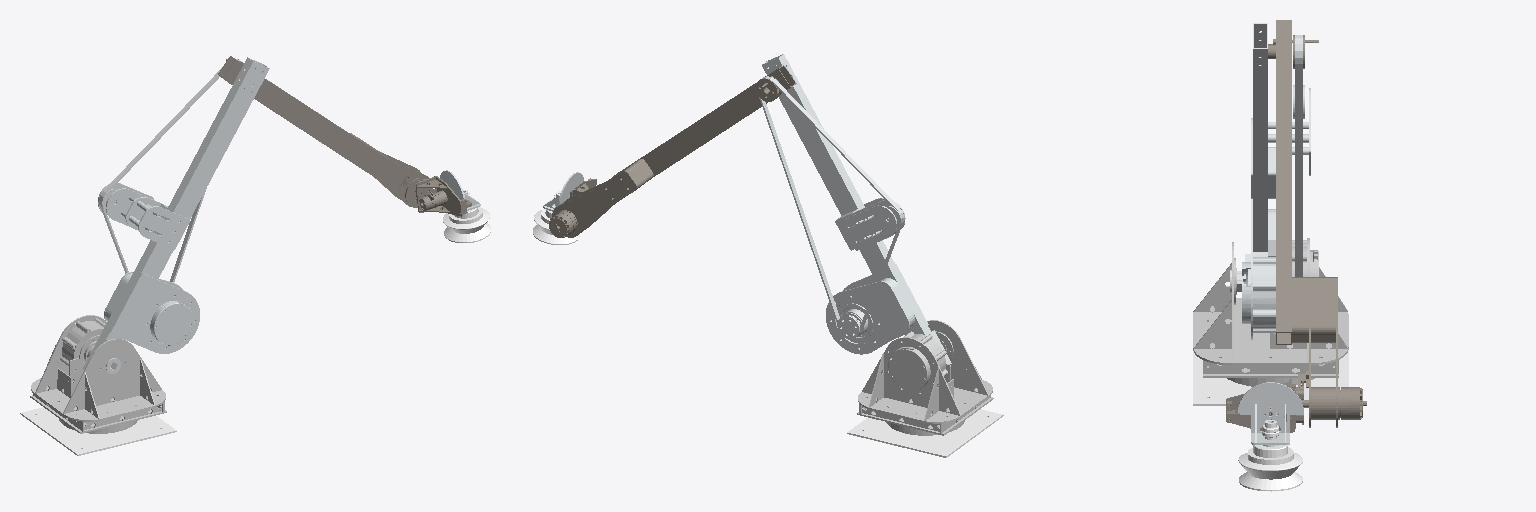
robot.urdf — arm_five:
<?xml version="1.0" encoding="utf-8"?>
<!-- This URDF was automatically created by SolidWorks to URDF Exporter! Originally created by [author] ([email redacted]) 
     Commit Version: 1.6.0-4-g7f85cfe  Build Version: 1.6.7995.38578
     For more information, please see http://wiki.ros.org/sw_urdf_exporter -->
<robot
  name="arm_five">
  <link
    name="base_link">
    <inertial>
      <origin
        xyz="-0.00236613442604132 -0.0894983531163199 -0.0481987165992793"
        rpy="0 0 0" />
      <mass
        value="0.154345609834955" />
      <inertia
        ixx="0.000417436432436493"
        ixy="-4.93288590150124E-09"
        ixz="6.85614256241027E-09"
        iyy="0.00082997888442507"
        iyz="1.76872405583988E-07"
        izz="0.000416271530709793" />
    </inertial>
    <visual>
      <origin
        xyz="0 0 0"
        rpy="0 0 0" />
      <geometry>
        <mesh
          filename="package://arm_five/meshes/base_link.STL" />
      </geometry>
      <material
        name="">
        <color
          rgba="1 1 1 1" />
      </material>
    </visual>
    <collision>
      <origin
        xyz="0 0 0"
        rpy="0 0 0" />
      <geometry>
        <mesh
          filename="package://arm_five/meshes/base_link.STL" />
      </geometry>
    </collision>
  </link>
  <link
    name="link1">
    <inertial>
      <origin
        xyz="-0.000449191767455663 0.000256902181870623 0.0552189501417714"
        rpy="0 0 0" />
      <mass
        value="1.08066092855482" />
      <inertia
        ixx="0.00237828624174695"
        ixy="-0.000138604443387599"
        ixz="-2.4719775190994E-06"
        iyy="0.00221801217328722"
        iyz="1.21816088999238E-06"
        izz="0.00408954342962918" />
    </inertial>
    <visual>
      <origin
        xyz="0 0 0"
        rpy="0 0 0" />
      <geometry>
        <mesh
          filename="package://arm_five/meshes/link1.STL" />
      </geometry>
      <material
        name="">
        <color
          rgba="0.850980392156863 0.850980392156863 0.850980392156863 1" />
      </material>
    </visual>
    <collision>
      <origin
        xyz="0 0 0"
        rpy="0 0 0" />
      <geometry>
        <mesh
          filename="package://arm_five/meshes/link1.STL" />
      </geometry>
    </collision>
  </link>
  <joint
    name="joint1"
    type="revolute">
    <origin
      xyz="-0.0023709 0.0485 -0.083056"
      rpy="0 0 2.0944" />
    <parent
      link="base_link" />
    <child
      link="link1" />
    <axis
      xyz="0 0 1" />
    <limit
      lower="-3.14"
      upper="3.14"
      effort="20"
      velocity="1" />
  </joint>
  <link
    name="link2">
    <inertial>
      <origin
        xyz="-0.0129811254310878 -0.00135864917917423 0.18885911112192"
        rpy="0 0 0" />
      <mass
        value="1.04360556284074" />
      <inertia
        ixx="0.0104184230501919"
        ixy="-1.00211667976171E-07"
        ixz="-0.000106688711466743"
        iyy="0.0112777331825399"
        iyz="1.65255487998408E-08"
        izz="0.000932219597508824" />
    </inertial>
    <visual>
      <origin
        xyz="0 0 0"
        rpy="0 0 0" />
      <geometry>
        <mesh
          filename="package://arm_five/meshes/link2.STL" />
      </geometry>
      <material
        name="">
        <color
          rgba="0.898039215686275 0.917647058823529 0.929411764705882 1" />
      </material>
    </visual>
    <collision>
      <origin
        xyz="0 0 0"
        rpy="0 0 0" />
      <geometry>
        <mesh
          filename="package://arm_five/meshes/link2.STL" />
      </geometry>
    </collision>
  </link>
  <joint
    name="joint2"
    type="revolute">
    <origin
      xyz="0 0 0.119"
      rpy="0 -0.56696 1.0472" />
    <parent
      link="link1" />
    <child
      link="link2" />
    <axis
      xyz="0 1 0" />
    <limit
      lower="-3.14"
      upper="3.14"
      effort="10"
      velocity="1" />
  </joint>
  <link
    name="link3">
    <inertial>
      <origin
        xyz="0.301060942833599 -0.224777237162097 -0.0560460402443058"
        rpy="0 0 0" />
      <mass
        value="0.902661128918181" />
      <inertia
        ixx="0.00147527353907959"
        ixy="0.00171459929882578"
        ixz="-3.27214575408053E-08"
        iyy="0.00249146060288111"
        iyz="2.30705253915853E-08"
        izz="0.00383660307698064" />
    </inertial>
    <visual>
      <origin
        xyz="0 0 0"
        rpy="0 0 0" />
      <geometry>
        <mesh
          filename="package://arm_five/meshes/link3.STL" />
      </geometry>
      <material
        name="">
        <color
          rgba="0.647058823529412 0.619607843137255 0.588235294117647 1" />
      </material>
    </visual>
    <collision>
      <origin
        xyz="0 0 0"
        rpy="0 0 0" />
      <geometry>
        <mesh
          filename="package://arm_five/meshes/link3.STL" />
      </geometry>
    </collision>
  </link>
  <joint
    name="joint3"
    type="revolute">
    <origin
      xyz="0 0 0.549"
      rpy="1.5708 -0.50031 3.1416" />
    <parent
      link="link2" />
    <child
      link="link3" />
    <axis
      xyz="0 0 1" />
    <limit
      lower="-3.14"
      upper="3.14"
      effort="10"
      velocity="1" />
  </joint>
  <link
    name="link4">
    <inertial>
      <origin
        xyz="-0.00634375962629319 0.0057877404240011 -0.005951446701411"
        rpy="0 0 0" />
      <mass
        value="0.180554701313826" />
      <inertia
        ixx="3.88022829221085E-05"
        ixy="-5.82424455735785E-06"
        ixz="5.23166111248946E-07"
        iyy="3.88314501455876E-05"
        iyz="-3.75544326019105E-07"
        izz="2.89351939372631E-05" />
    </inertial>
    <visual>
      <origin
        xyz="0 0 0"
        rpy="0 0 0" />
      <geometry>
        <mesh
          filename="package://arm_five/meshes/link4.STL" />
      </geometry>
      <material
        name="">
        <color
          rgba="0.647058823529412 0.619607843137255 0.588235294117647 1" />
      </material>
    </visual>
    <collision>
      <origin
        xyz="0 0 0"
        rpy="0 0 0" />
      <geometry>
        <mesh
          filename="package://arm_five/meshes/link4.STL" />
      </geometry>
    </collision>
  </link>
  <joint
    name="joint4"
    type="revolute">
    <origin
      xyz="0.39824 -0.29735 0"
      rpy="0 0 -2.182" />
    <parent
      link="link3" />
    <child
      link="link4" />
    <axis
      xyz="0 0 -1" />
    <limit
      lower="-3.14"
      upper="3.14"
      effort="4"
      velocity="1" />
  </joint>
  <link
    name="link5">
    <inertial>
      <origin
        xyz="0.00369044151611664 -0.000869658137897758 0.0200958751417407"
        rpy="0 0 0" />
      <mass
        value="0.0562002913107199" />
      <inertia
        ixx="1.91471936233006E-05"
        ixy="-1.22562623598692E-06"
        ixz="-3.35347209956287E-07"
        iyy="1.42358369986579E-05"
        iyz="7.90250843542147E-08"
        izz="2.54282566706172E-05" />
    </inertial>
    <visual>
      <origin
        xyz="0 0 0"
        rpy="0 0 0" />
      <geometry>
        <mesh
          filename="package://arm_five/meshes/link5.STL" />
      </geometry>
      <material
        name="">
        <color
          rgba="0.898039215686275 0.917647058823529 0.929411764705882 1" />
      </material>
    </visual>
    <collision>
      <origin
        xyz="0 0 0"
        rpy="0 0 0" />
      <geometry>
        <mesh
          filename="package://arm_five/meshes/link5.STL" />
      </geometry>
    </collision>
  </link>
  <joint
    name="joint5"
    type="revolute">
    <origin
      xyz="-0.020329 0.020329 0"
      rpy="-1.5708 0.23143 0.7854" />
    <parent
      link="link4" />
    <child
      link="link5" />
    <axis
      xyz="0 0 1" />
    <limit
      lower="-3.14"
      upper="3.14"
      effort="2"
      velocity="1" />
  </joint>
  <link
    name="sucker_link">
    <inertial>
      <origin
        xyz="7.7715611723761E-16 -0.058669656446916 -2.22044604925031E-16"
        rpy="0 0 0" />
      <mass
        value="0.153500313696322" />
      <inertia
        ixx="9.05153244784371E-05"
        ixy="-1.79408445251676E-20"
        ixz="0"
        iyy="0.000100922184593904"
        iyz="5.68459291285712E-21"
        izz="9.0515324478437E-05" />
    </inertial>
    <visual>
      <origin
        xyz="0 0 0"
        rpy="0 0 0" />
      <geometry>
        <mesh
          filename="package://arm_five/meshes/sucker_link.STL" />
      </geometry>
      <material
        name="">
        <color
          rgba="1 1 1 1" />
      </material>
    </visual>
    <collision>
      <origin
        xyz="0 0 0"
        rpy="0 0 0" />
      <geometry>
        <mesh
          filename="package://arm_five/meshes/sucker_link.STL" />
      </geometry>
    </collision>
  </link>
  <joint
    name="joint_sucker"
    type="fixed">
    <origin
      xyz="0 0 0.035"
      rpy="-3.1416 0.43341 -1.8022" />
    <parent
      link="link5" />
    <child
      link="sucker_link" />
    <axis
      xyz="0 0 0" />
  </joint>
</robot>

--- Facts derived from the render (not from the file) ---
3 views of the same robot in one strip: view 1: azimuth 30°, elevation 25°; view 2: azimuth 150°, elevation 25°; view 3: azimuth 270°, elevation 25° (orthographic).
Robot: arm_five — 7 links, 6 joints (5 revolute, 1 fixed); root link base_link; default pose: all joints at 0.
Links seen in each view (by area): view 1: link2, link1, link3, base_link, link4, sucker_link; view 2: link2, link1, link3, base_link, sucker_link; view 3: link3, link2, link1, sucker_link, link5, base_link, link4.
Boxes of the visible links, x1,y1,x2,y2 form: link2: [83, 57, 269, 373]; link1: [30, 315, 166, 433]; link3: [218, 56, 428, 206]; base_link: [20, 407, 176, 455]; link4: [405, 176, 471, 216]; sucker_link: [443, 190, 490, 242]; link2: [759, 54, 951, 363]; link1: [857, 320, 993, 435]; link3: [549, 65, 796, 237]; base_link: [847, 409, 1003, 457]; sucker_link: [533, 191, 579, 244]; link3: [1268, 20, 1366, 427]; link2: [1230, 23, 1310, 339]; link1: [1193, 238, 1348, 386]; sucker_link: [1238, 420, 1302, 491]; link5: [1238, 382, 1303, 444]; base_link: [1193, 350, 1348, 405]; link4: [1226, 379, 1303, 432].
Size in the robot's own frame: 0.886 by 0.2236 by 0.6424 metres.
7 mesh visuals loaded from 7 distinct referenced files (7 binary STL).